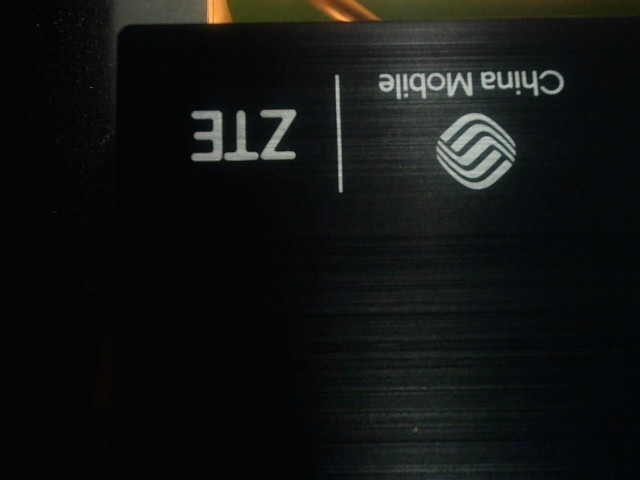AL_ZTEChinaMobile: (169, 59, 571, 197)
